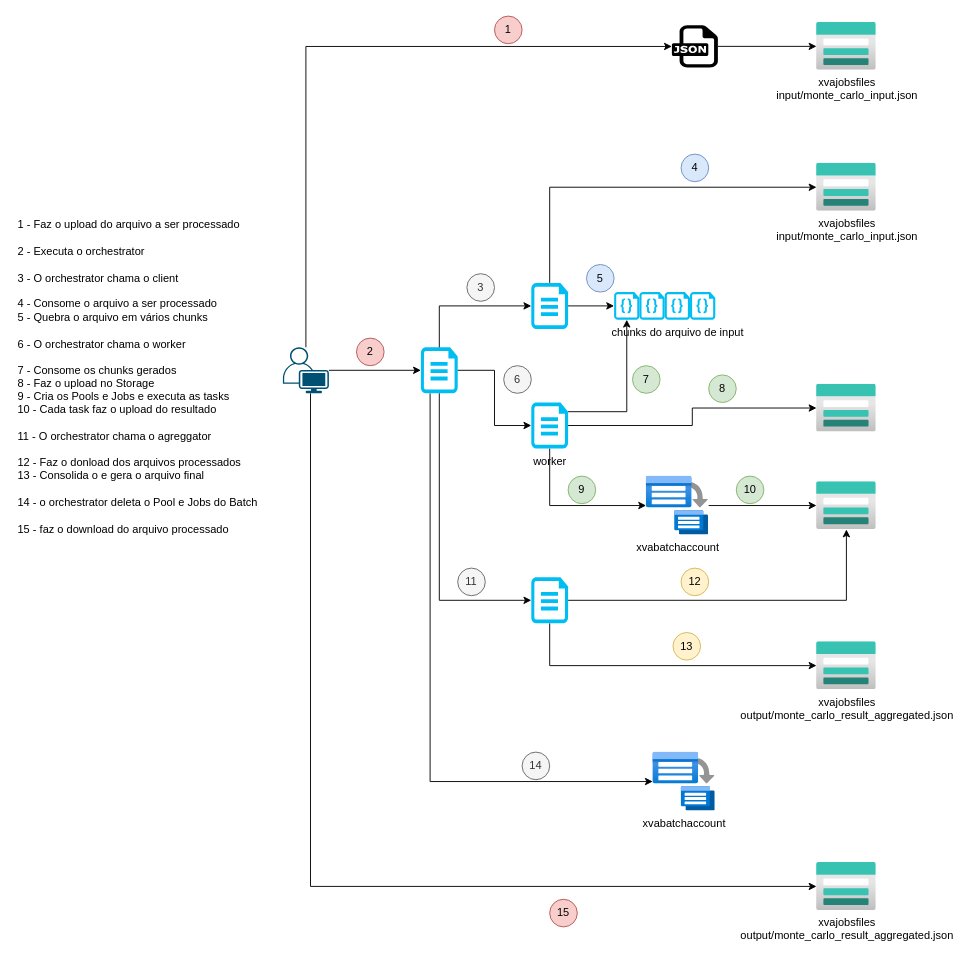
This 969x960 diagram has some shape labels left out. Here are the shapes that lost their labels. From the top down, the box of each, then its label:
(671, 24, 718, 67): monte_carlo_input.json
(531, 282, 568, 328): client
(420, 347, 457, 393): orchestrator
(816, 384, 876, 431): xvajobsfiles temp/ monte_carlo_input_part_X.json
(816, 481, 876, 529): xvajobsfiles temp/ monte_carlo_result_part_X.json
(531, 577, 568, 623): agreggator
